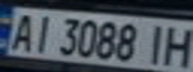0: (75, 16, 100, 58)
3: (54, 15, 81, 56)
8: (115, 19, 145, 63), (93, 18, 121, 61)
A: (3, 10, 39, 52)
H: (157, 22, 193, 68)
I: (139, 21, 172, 65), (27, 11, 57, 54)
